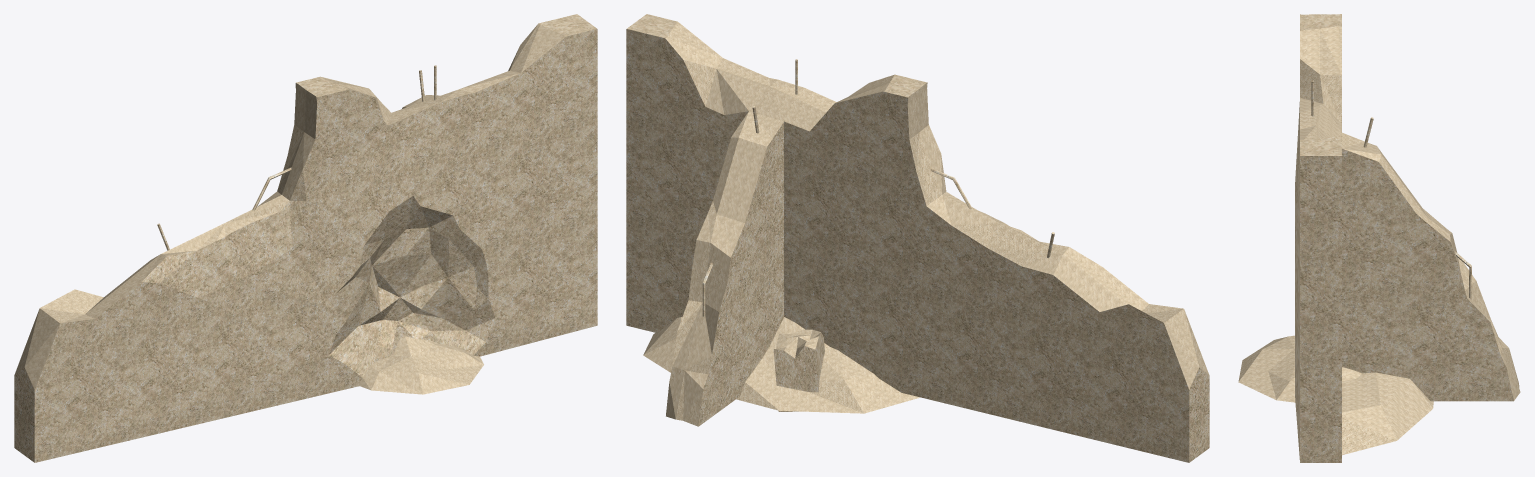
Rendered from thm_tato_imprv_wall_ruin_s03_l0.fbx.
3 renders of one model, left to right at view 1: azimuth 30°, elevation 25°; view 2: azimuth 150°, elevation 25°; view 3: azimuth 270°, elevation 25°, orthographic. The views are drawn at different scales.
Parts seen in each view (by area): view 1: mesh_node; view 2: mesh_node; view 3: mesh_node.
Part boxes in pixels (x1,y1,x2,y2): mesh_node: (14, 14, 597, 462); mesh_node: (626, 14, 1209, 462); mesh_node: (1238, 14, 1520, 462).
Bounding box in the file's own units: 8 × 4.32 × 3.36.
